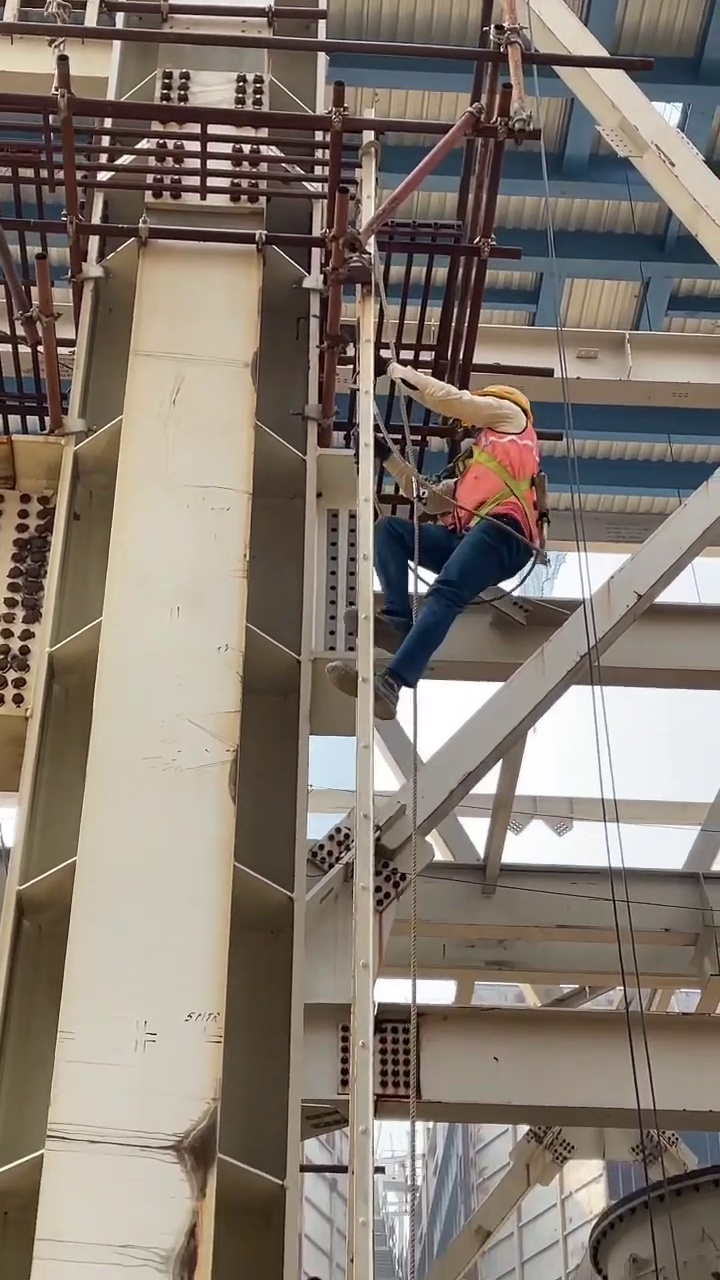Helmet: (479, 385, 530, 406)
Person: (323, 386, 547, 727)
Safety_Harness: (444, 424, 550, 557)
Safety_shoes: (324, 656, 403, 723), (345, 609, 405, 652)
